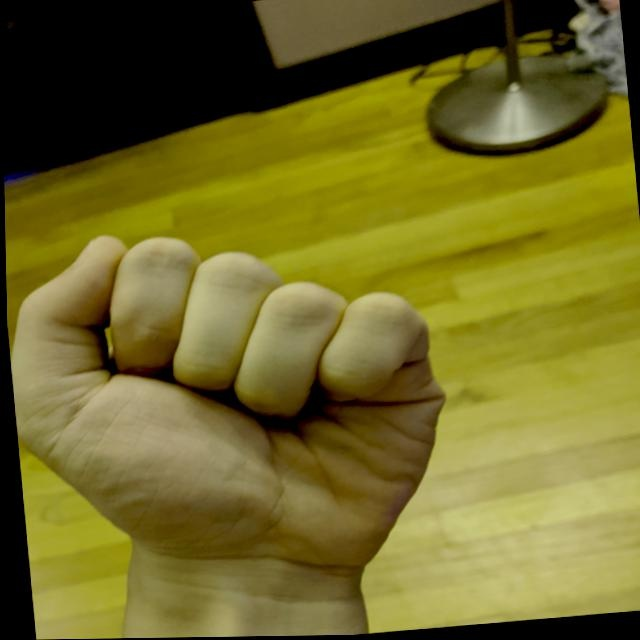A: (4, 202, 467, 617)
